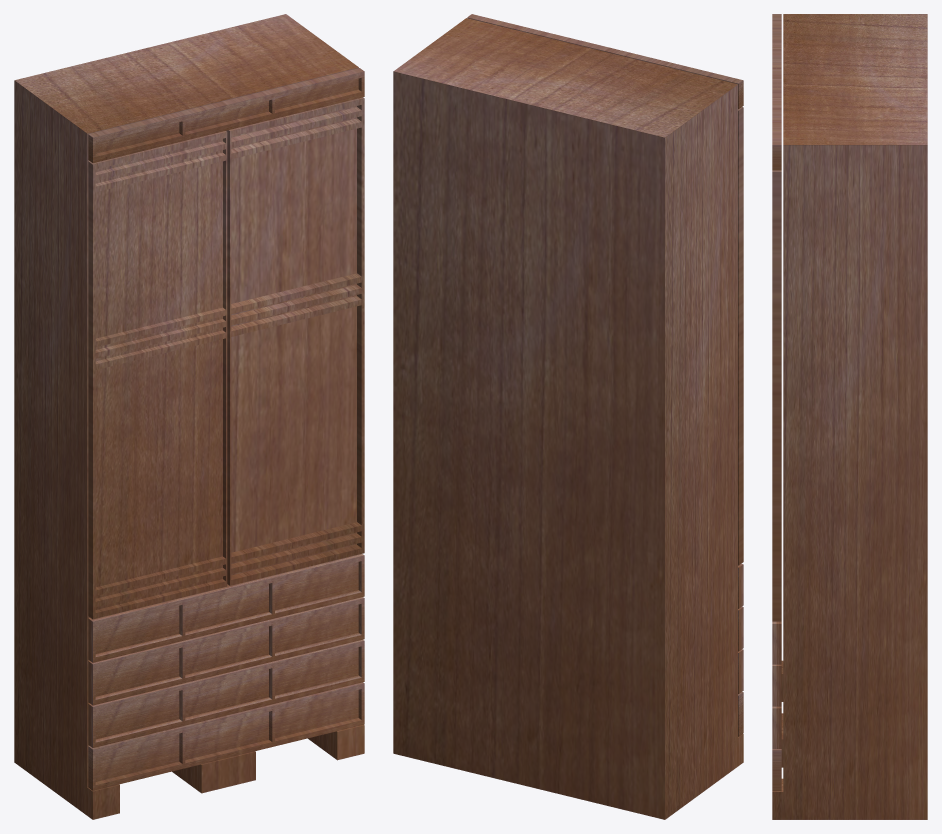
File: mobile.obj
3 renders of one model, left to right at view 1: azimuth 30°, elevation 25°; view 2: azimuth 150°, elevation 25°; view 3: azimuth 270°, elevation 25°, orthographic.
Parts seen in each view (by area): view 1: Box01_16, Box06_2, Line10_18, Line06_4, Box04_7, Box03_13, Box02_6, Box05_15, Line02_17, Line09_9, Line08_8, Line07_12 (+5 smaller); view 2: Box01_16, Box11_3, Box08_5, Line06_4, Line02_17, Box09_14; view 3: Box01_16, Line10_18, Box09_14, Line02_17, Line09_9, Line08_8, Line01_10, Line07_12.
Boxes of the visible parts, x1,y1,x2,y2 form: Box01_16: (14, 14, 358, 787); Box06_2: (95, 138, 222, 609); Line10_18: (226, 97, 364, 585); Line06_4: (88, 131, 227, 619); Box04_7: (95, 604, 358, 696); Box03_13: (95, 647, 358, 739); Box02_6: (95, 690, 358, 781); Box05_15: (95, 562, 358, 653); Line02_17: (88, 68, 364, 162); Line09_9: (88, 554, 364, 662); Line08_8: (88, 597, 364, 705); Line07_12: (88, 639, 364, 747); Box01_16: (393, 18, 737, 791); Box11_3: (420, 732, 637, 813); Box08_5: (638, 734, 743, 819); Line06_4: (738, 107, 743, 565); Line02_17: (467, 14, 743, 109); Box09_14: (393, 725, 420, 760); Box01_16: (783, 14, 927, 791); Line10_18: (772, 170, 781, 621); Box09_14: (772, 778, 927, 819); Line02_17: (772, 14, 781, 170); Line09_9: (772, 621, 781, 664); Line08_8: (772, 664, 781, 706); Line01_10: (772, 749, 781, 791); Line07_12: (772, 706, 781, 748).
Bounding box in the file's own units: 100 × 240 × 50.
Materials: 1 (1 with a texture image).
